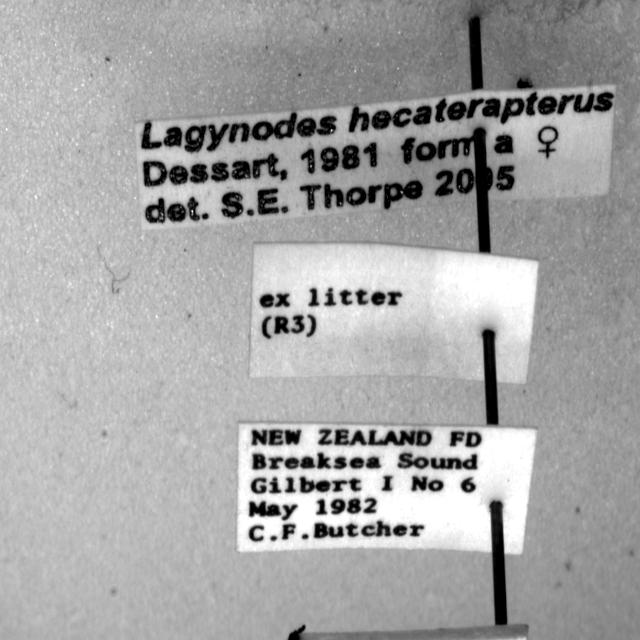typed_label: (135, 82, 616, 229), (250, 244, 539, 382), (238, 424, 536, 555)
